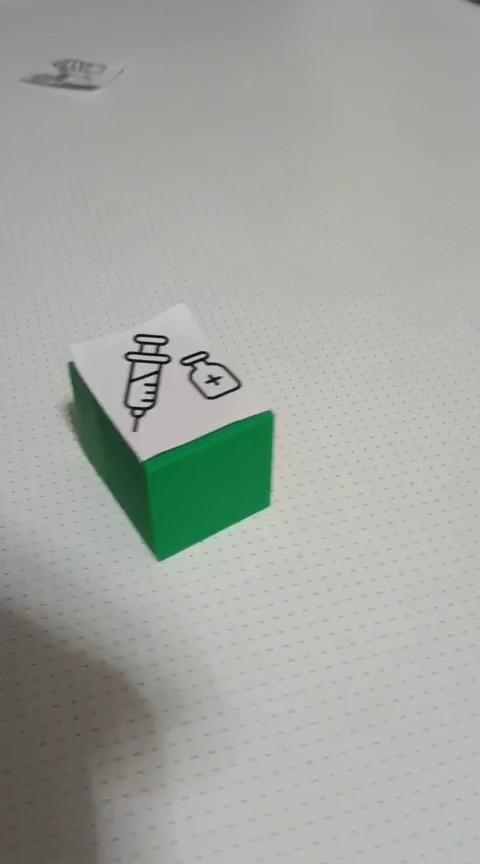antiseptic cream: (65, 301, 276, 561)
